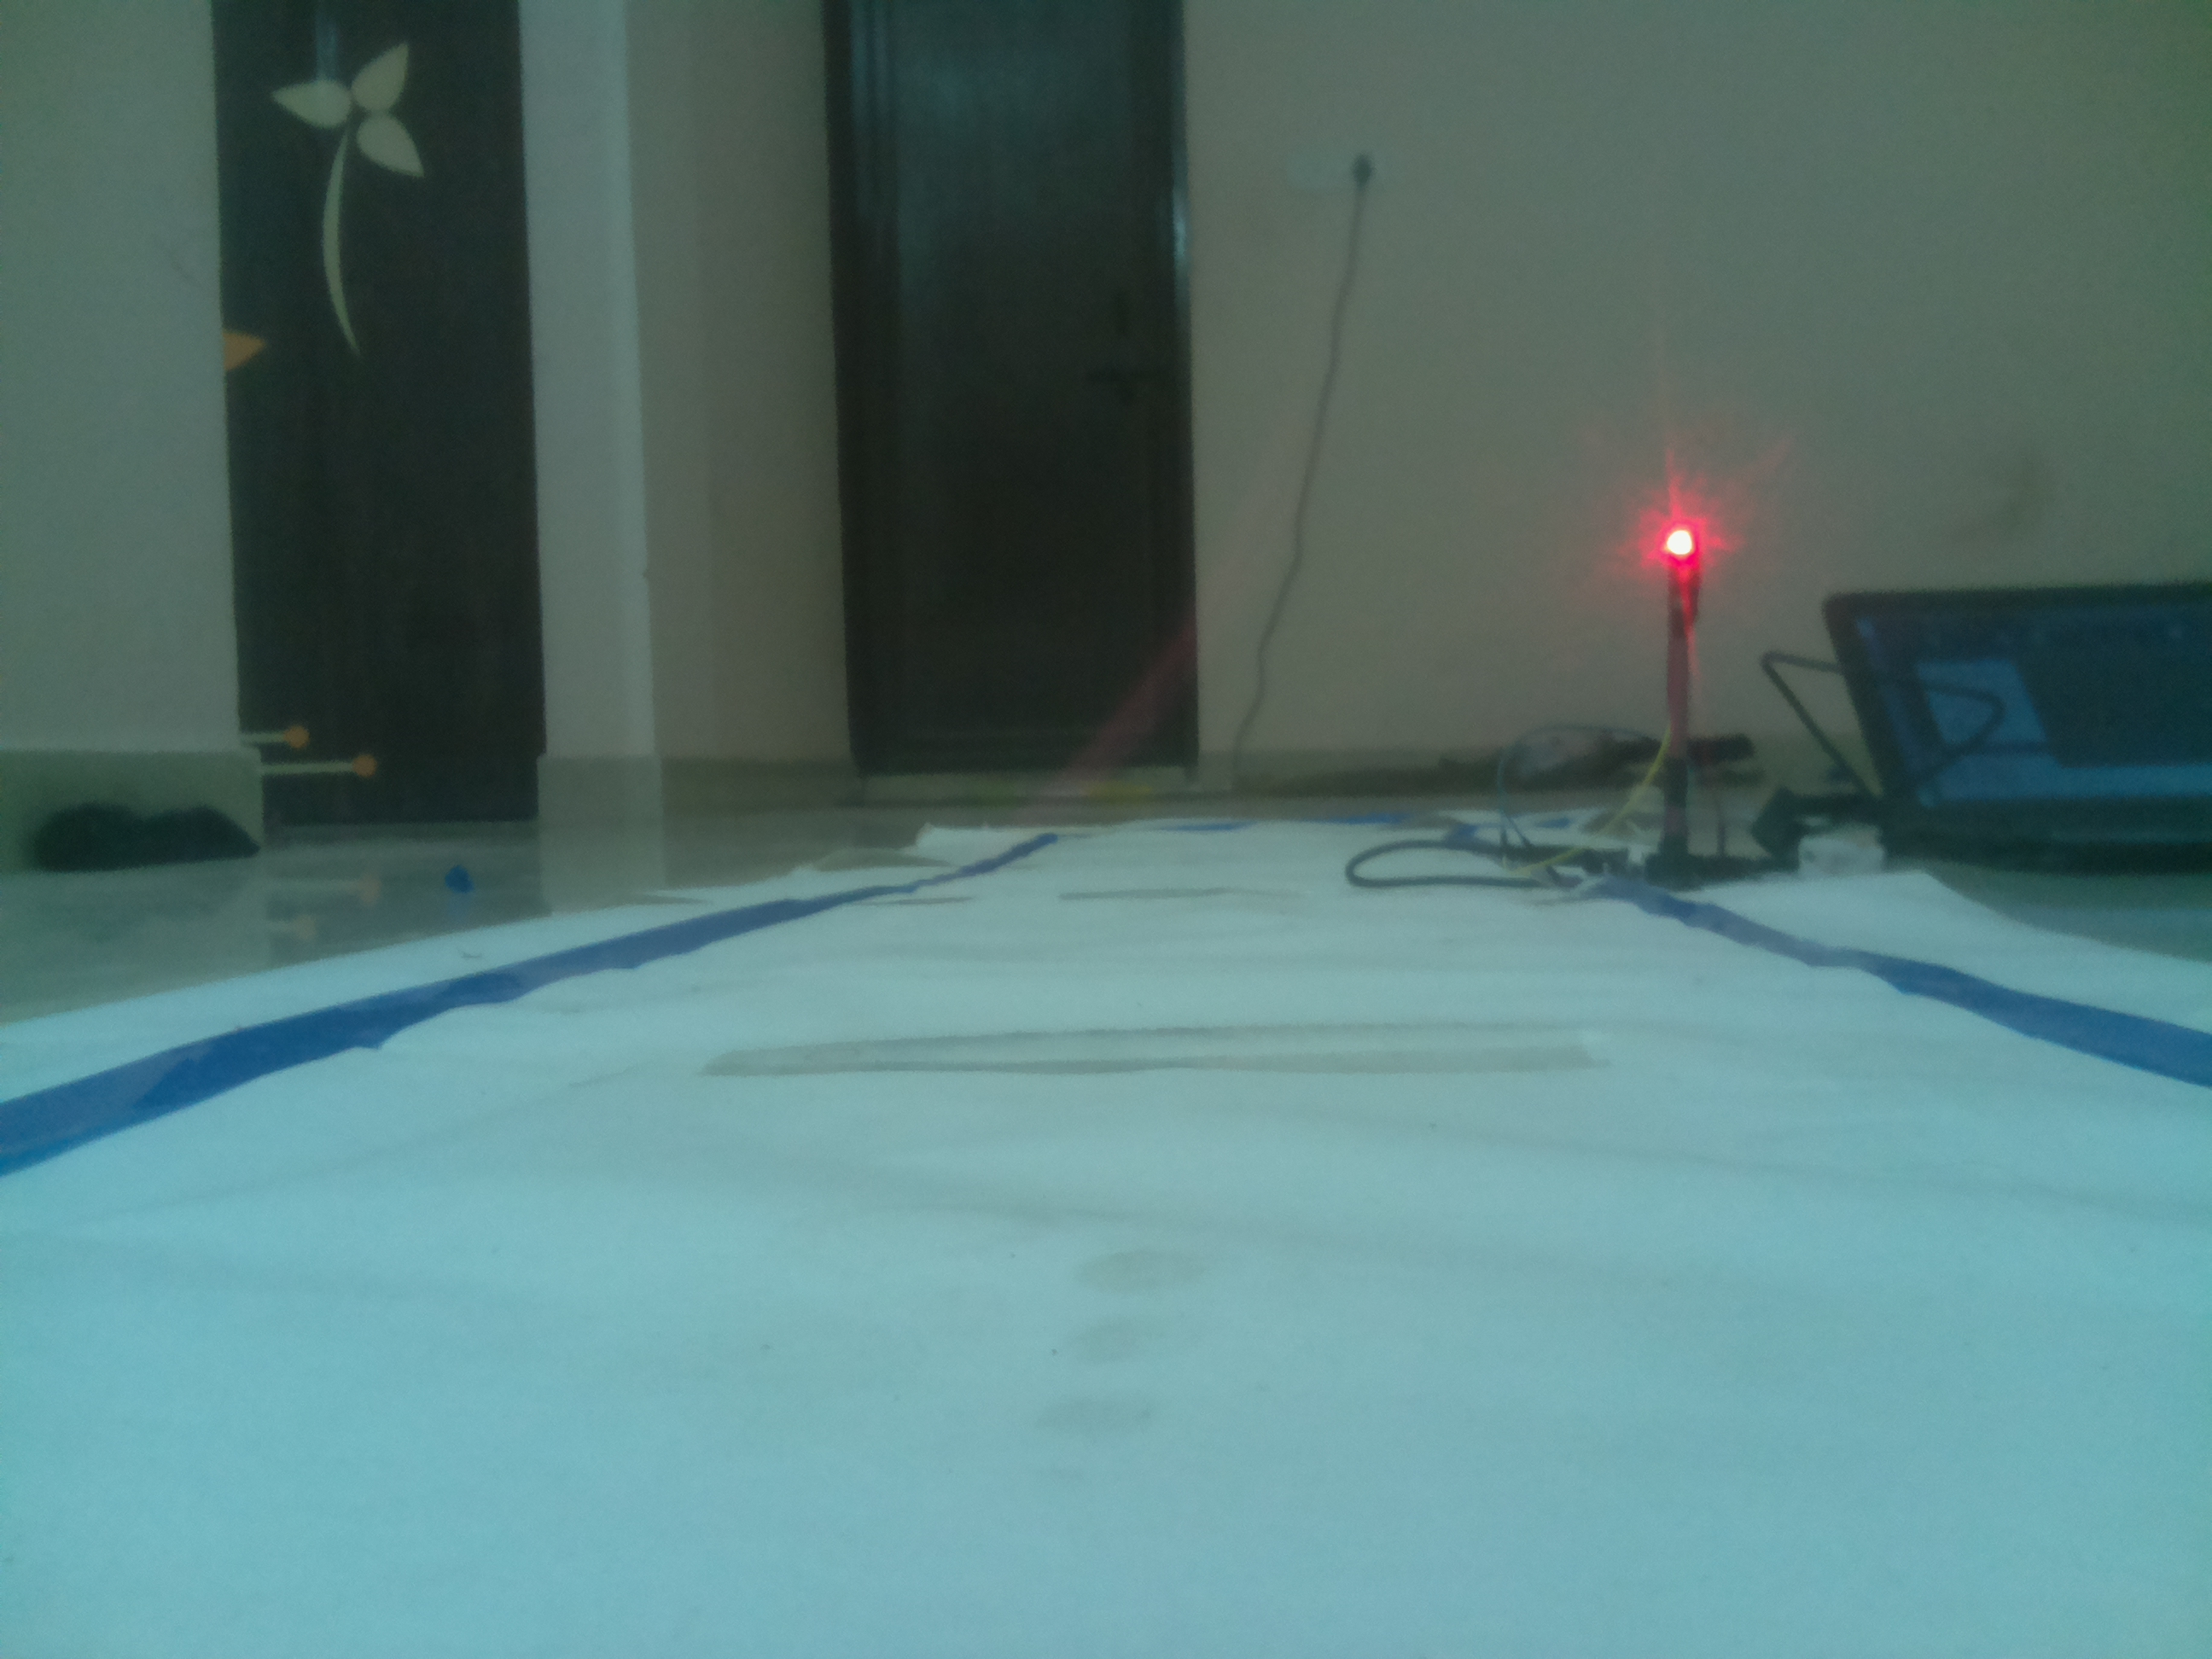red-light: (1649, 509, 1721, 643)
